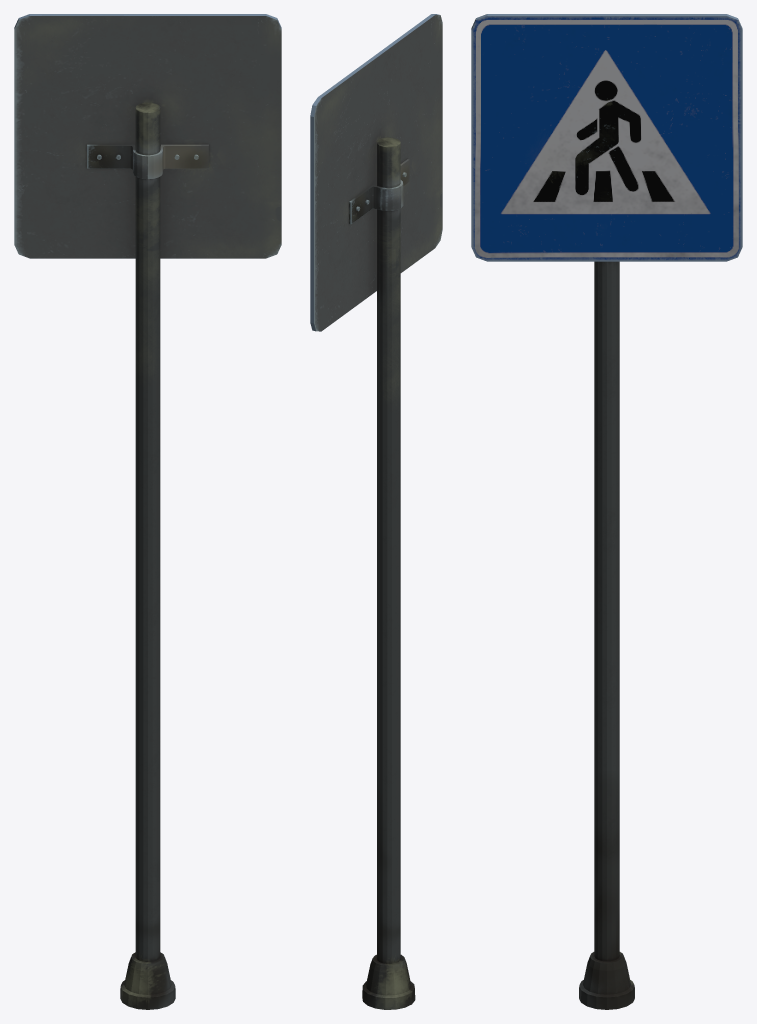
The model's file is pedestrian_traffic_signNORM.fbx.
3 views of the same model, side by side, from view 1: azimuth 90°, elevation 25°; view 2: azimuth 150°, elevation 25°; view 3: azimuth 270°, elevation 25° (orthographic). The views are drawn at different scales.
Visible parts, largest first — view 1: PEDESTRIAN.001; view 2: PEDESTRIAN.001; view 3: PEDESTRIAN.001.
Boxes of the visible parts, x1,y1,x2,y2 form: PEDESTRIAN.001: [14, 14, 281, 1009]; PEDESTRIAN.001: [310, 14, 442, 1009]; PEDESTRIAN.001: [471, 14, 742, 1009].
Size of the model in its own units: 41.57 by 806 by 200.
